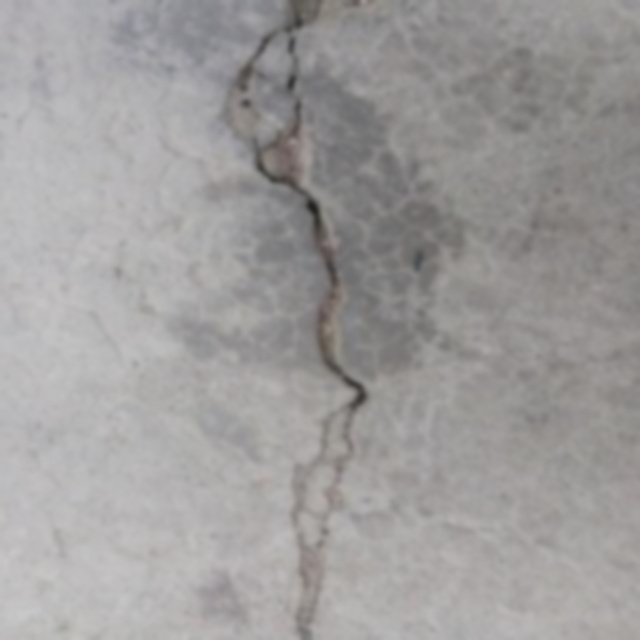SurfaceCrack: (220, 2, 378, 640)
